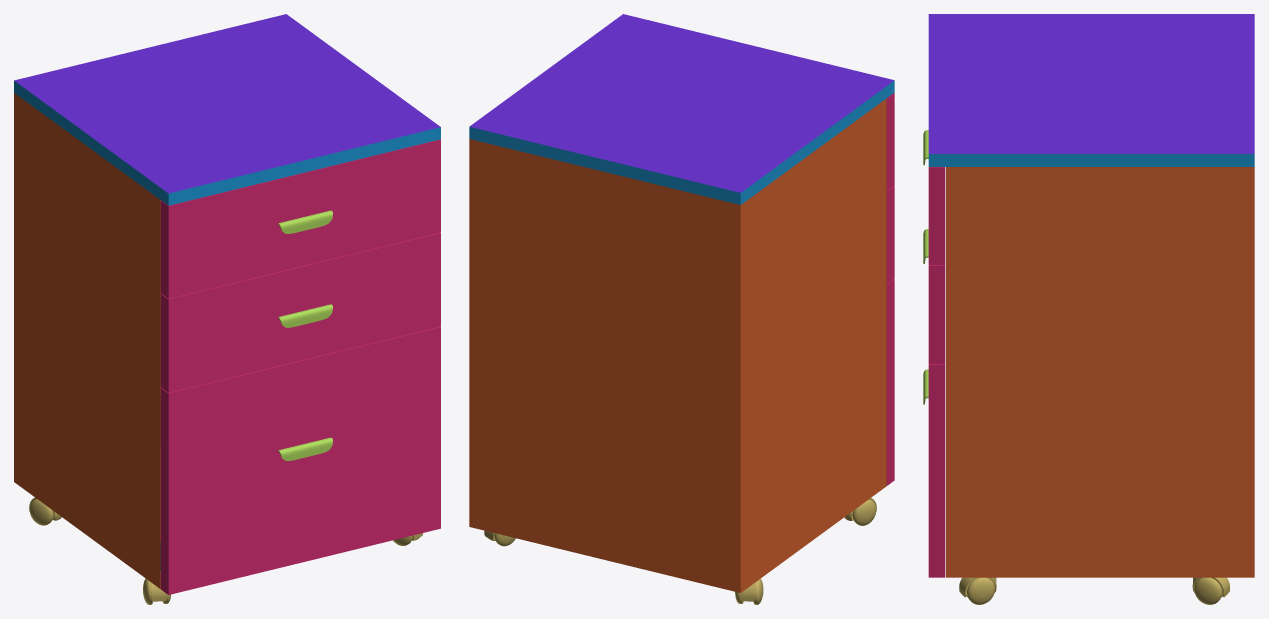
File: desk_file_1.glb
The picture shows the model from 3 angles, left to right: view 1: azimuth 30°, elevation 25°; view 2: azimuth 150°, elevation 25°; view 3: azimuth 270°, elevation 25°; orthographic projection. The views are drawn at different scales.
Visible parts, largest first — view 1: File Mobile White; view 2: File Mobile White; view 3: File Mobile White.
Boxes of the visible parts, x1,y1,x2,y2 form: File Mobile White: [14, 14, 440, 604]; File Mobile White: [469, 14, 894, 604]; File Mobile White: [923, 14, 1254, 604].
Bounding box in the file's own units: 0.4696 × 0.7007 × 0.4645.
